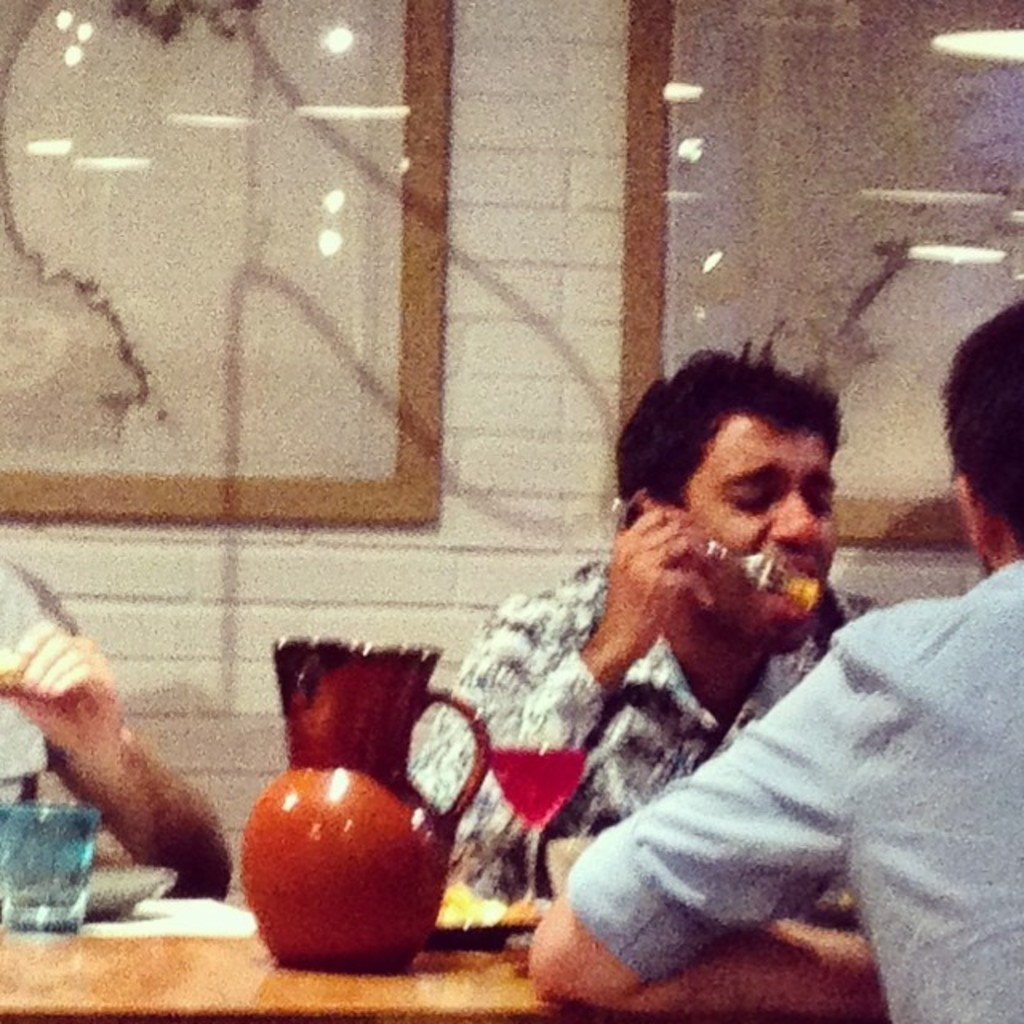Human-face: (694, 416, 834, 651)
